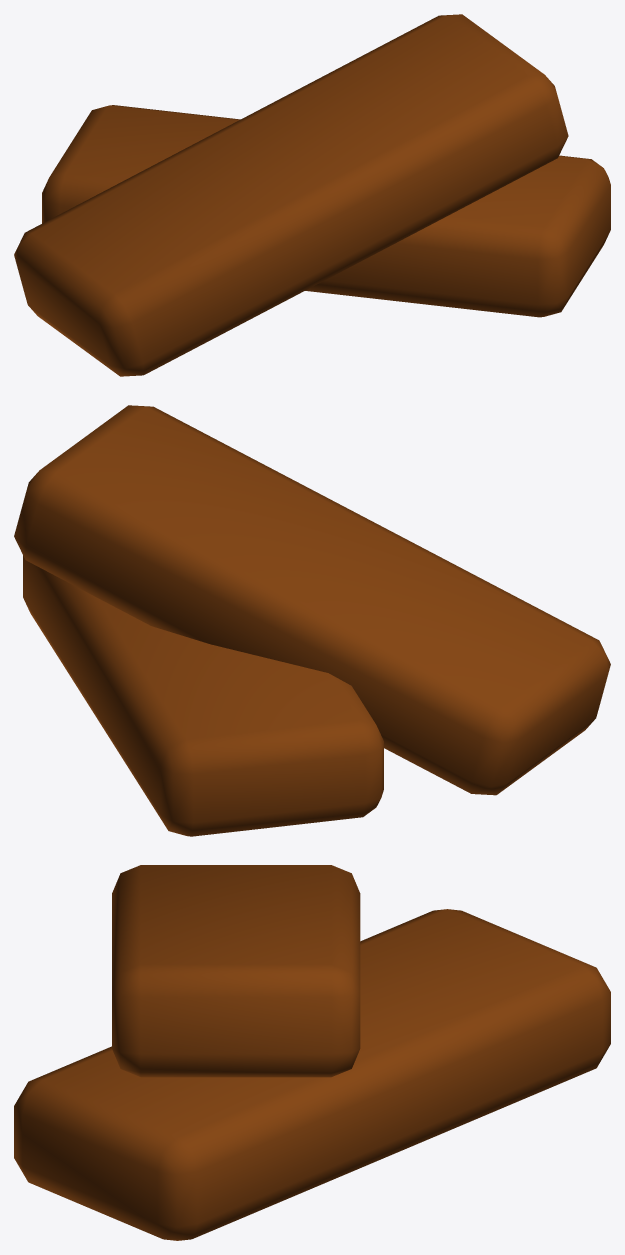
The model's file is LastLuna_Model_Item_Plank.fbx.
3 views of the same model, one above another, from view 1: azimuth 30°, elevation 25°; view 2: azimuth 150°, elevation 25°; view 3: azimuth 270°, elevation 25° (orthographic). The views are drawn at different scales.
Parts seen in each view (by area): view 1: Plank001; view 2: Plank001; view 3: Plank001.
Part boxes in pixels (bbox=[...]): Plank001: bbox=[14, 14, 610, 376]; Plank001: bbox=[14, 405, 610, 836]; Plank001: bbox=[14, 865, 610, 1240].
Bounding box in the file's own units: 117 × 43.05 × 99.33.
